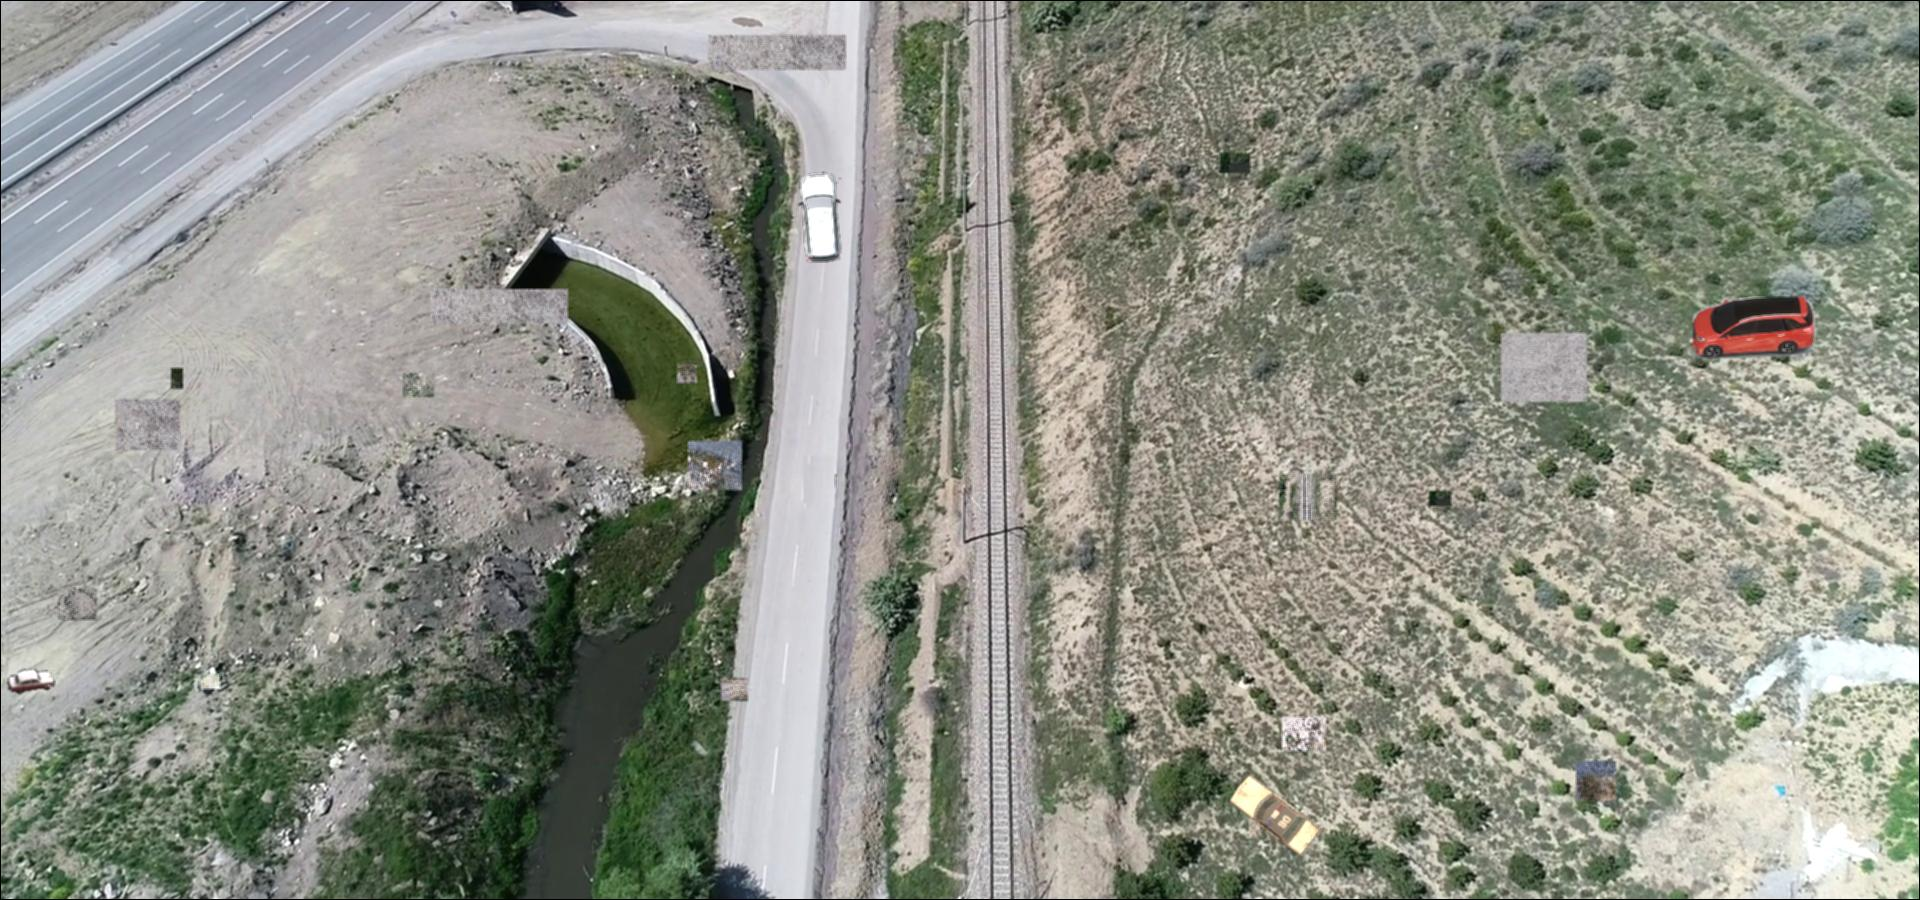arac: (1227, 771, 1324, 860), (1693, 298, 1815, 358), (793, 171, 845, 264), (7, 669, 55, 696)
